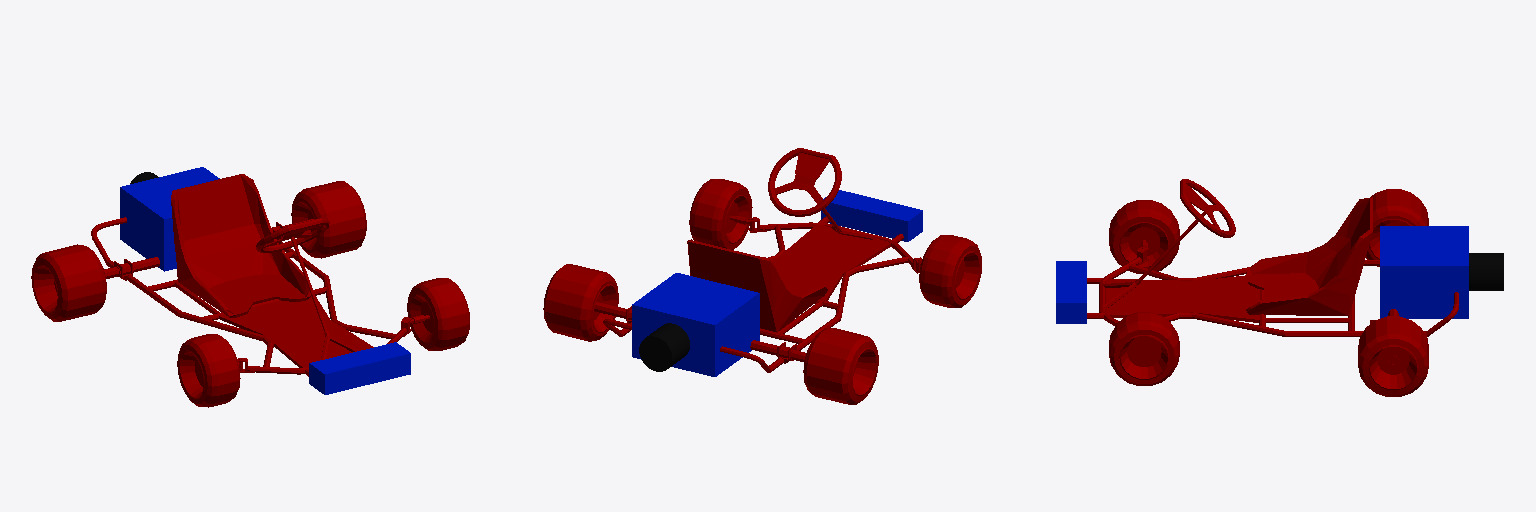
Rendered from speedster.obj.
The picture shows the model from 3 angles: view 1: azimuth 30°, elevation 25°; view 2: azimuth 150°, elevation 25°; view 3: azimuth 270°, elevation 25°; orthographic projection.
Visible parts, largest first — view 1: Chassis_Untitled.010, Engine_Cube.001, BR_Wheel_Untitled.011, BL_Wheel_Untitled.015, FR_Wheel_Untitled.012, FL_Wheel_Untitled.017, Front_Cube.002, Steering_Wheel_Untitled.019; view 2: Chassis_Untitled.010, Engine_Cube.001, BR_Wheel_Untitled.011, BL_Wheel_Untitled.015, FR_Wheel_Untitled.012, FL_Wheel_Untitled.017, Front_Cube.002, Steering_Wheel_Untitled.019, Exhaust_Cylinder, RearAxle_Untitled.018; view 3: Chassis_Untitled.010, Engine_Cube.001, BL_Wheel_Untitled.015, FL_Wheel_Untitled.017, FR_Wheel_Untitled.012, BR_Wheel_Untitled.011, Front_Cube.002, Steering_Wheel_Untitled.019, Exhaust_Cylinder.
Part boxes in pixels (x1,y1,x2,y2): Chassis_Untitled.010: (91, 174, 411, 376); Engine_Cube.001: (120, 167, 219, 271); BR_Wheel_Untitled.011: (31, 244, 106, 321); BL_Wheel_Untitled.015: (291, 181, 366, 258); FR_Wheel_Untitled.012: (177, 334, 240, 407); FL_Wheel_Untitled.017: (407, 278, 469, 350); Front_Cube.002: (309, 342, 410, 394); Steering_Wheel_Untitled.019: (256, 218, 329, 331); Chassis_Untitled.010: (603, 217, 921, 372); Engine_Cube.001: (632, 273, 759, 376); BR_Wheel_Untitled.011: (803, 328, 878, 404); BL_Wheel_Untitled.015: (543, 264, 618, 341); FR_Wheel_Untitled.012: (919, 235, 981, 307); FL_Wheel_Untitled.017: (689, 179, 752, 249); Front_Cube.002: (821, 190, 922, 241); Steering_Wheel_Untitled.019: (768, 148, 841, 230); Exhaust_Cylinder: (639, 323, 689, 371); RearAxle_Untitled.018: (594, 302, 805, 361); Chassis_Untitled.010: (1087, 197, 1458, 336); Engine_Cube.001: (1380, 226, 1468, 318); BL_Wheel_Untitled.015: (1358, 316, 1428, 396); FL_Wheel_Untitled.017: (1109, 312, 1179, 385); FR_Wheel_Untitled.012: (1109, 200, 1179, 273); BR_Wheel_Untitled.011: (1366, 189, 1428, 266); Front_Cube.002: (1056, 261, 1086, 323); Steering_Wheel_Untitled.019: (1138, 179, 1235, 281); Exhaust_Cylinder: (1469, 253, 1503, 290).
Bounding box in the file's own units: 1.84 × 0.7919 × 2.33.